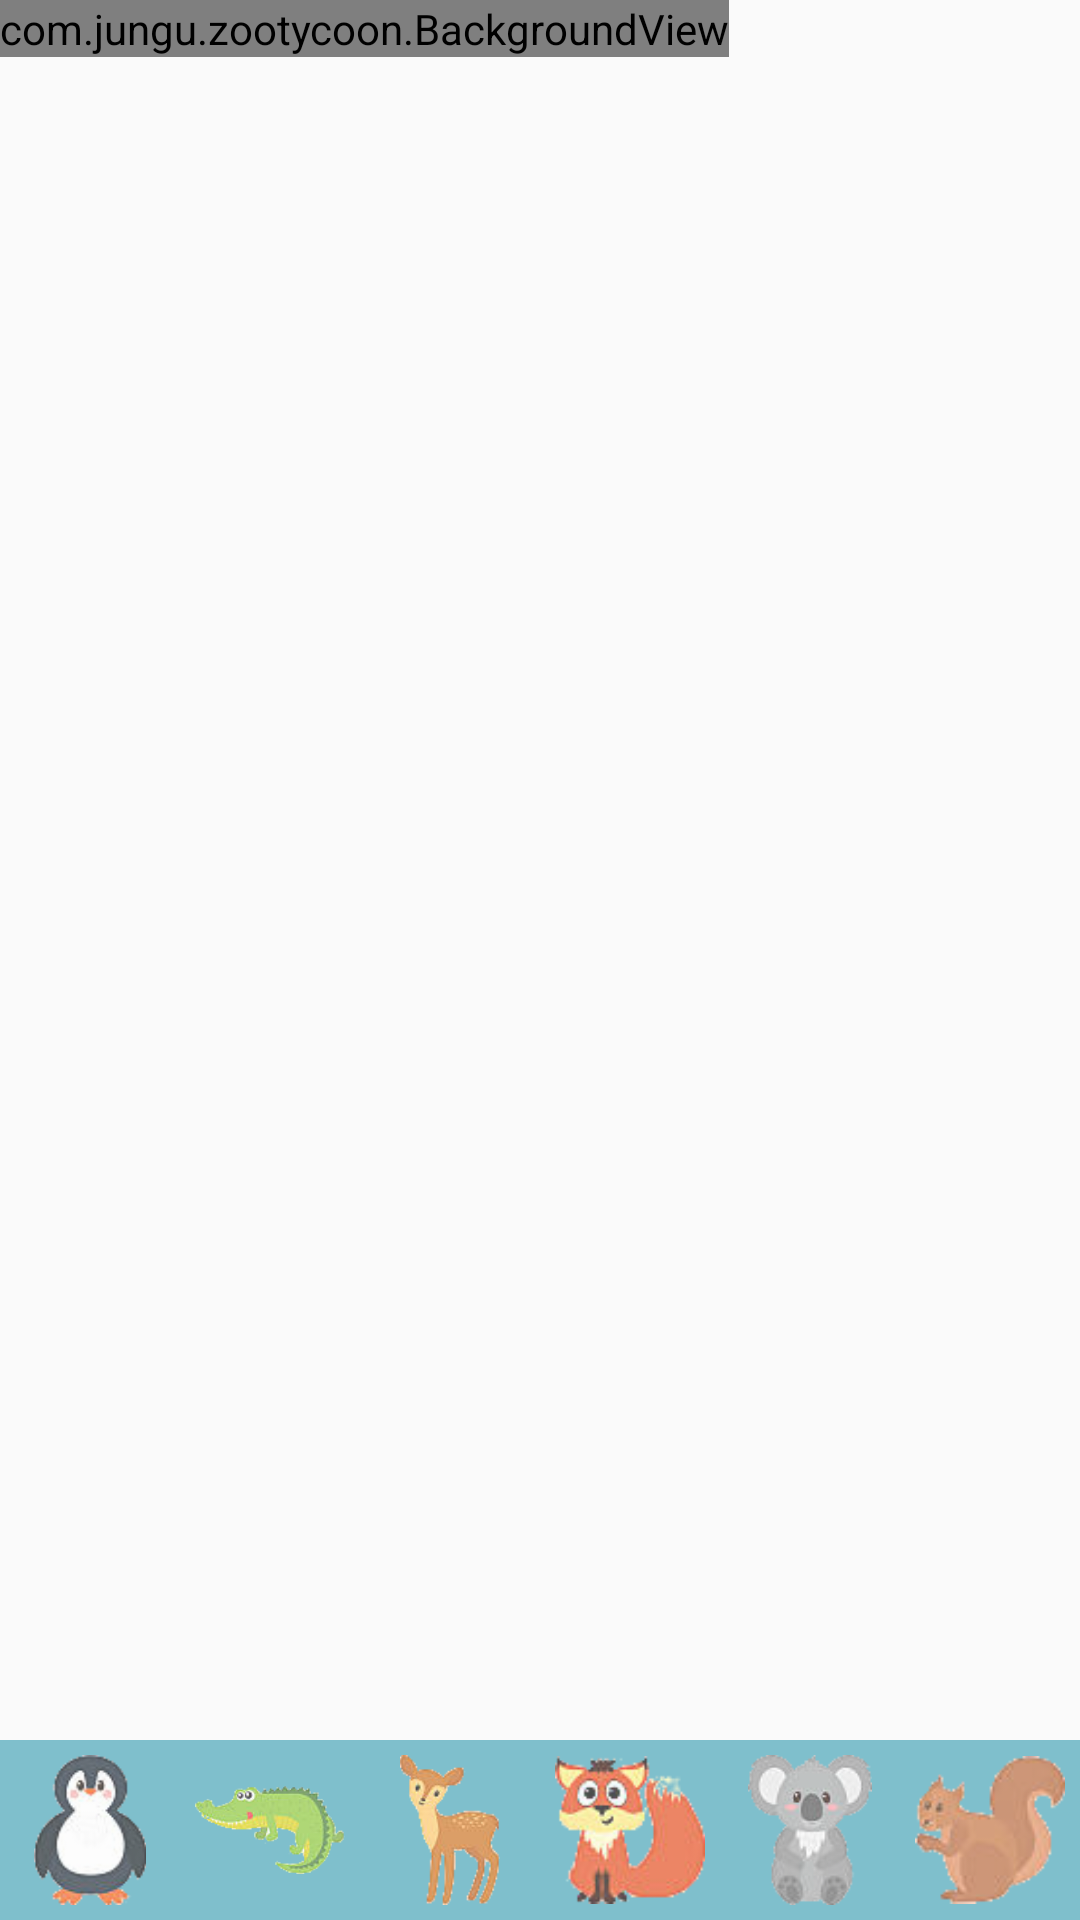

Where to tap for icons on this 1080px x 1920px app screen, as (x,y):
anime crocodile: (269,1830)
anime deer: (450,1830)
anime fox: (630,1830)
anime koala: (810,1830)
anime penguin: (90,1830)
anime squirrel: (990,1830)
